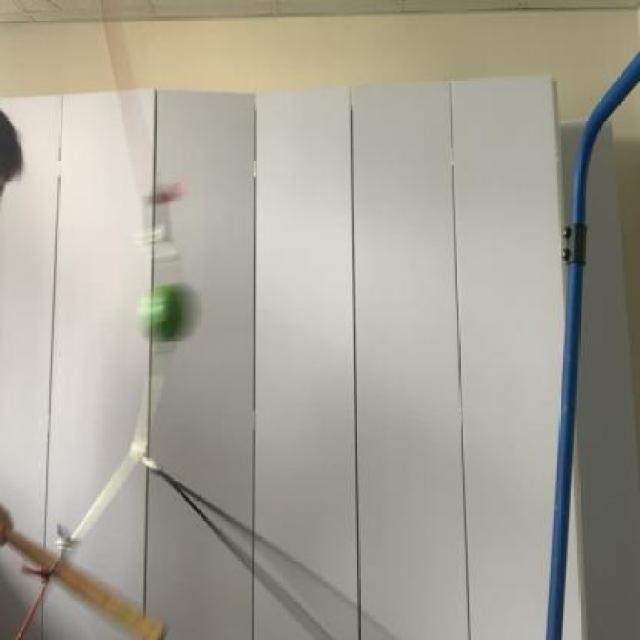baseball: (131, 268, 200, 348)
